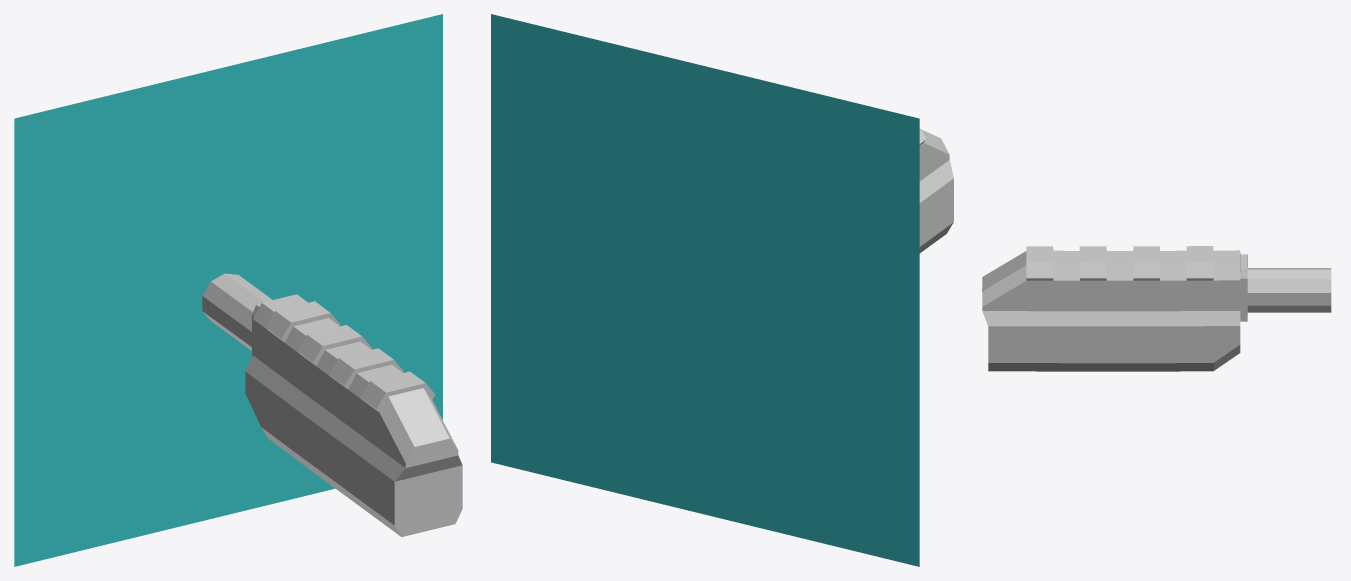
3 views of the same model, side by side, from view 1: azimuth 30°, elevation 25°; view 2: azimuth 150°, elevation 25°; view 3: azimuth 270°, elevation 25° (orthographic). The views are drawn at different scales.
Visible parts, largest first — view 1: Muzzleflash100, a100, c100; view 2: Muzzleflash100, a100; view 3: a100, c100, b100.
Part boxes in pixels (x1,y1,x2,y2): Muzzleflash100: (14, 14, 442, 566); a100: (245, 294, 462, 536); c100: (202, 273, 272, 350); Muzzleflash100: (491, 14, 919, 566); a100: (919, 127, 953, 253); a100: (982, 246, 1240, 371); c100: (1247, 268, 1331, 312); b100: (1240, 254, 1247, 321).
Size of the model in its own units: 0.9921 by 0.8456 by 0.9921.
